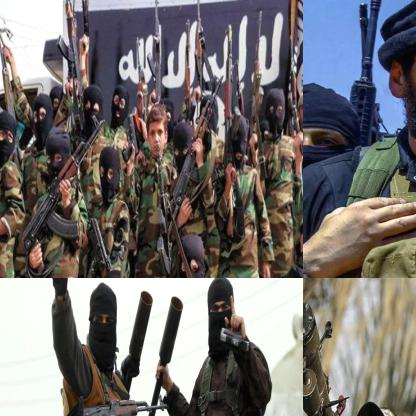rifle: (22, 116, 108, 269), (171, 71, 225, 221), (303, 298, 364, 415), (151, 141, 183, 277), (57, 0, 85, 106), (41, 394, 169, 415), (145, 0, 165, 108), (222, 24, 238, 158), (250, 9, 264, 149), (284, 34, 303, 134), (181, 16, 193, 112), (113, 244, 134, 277)
